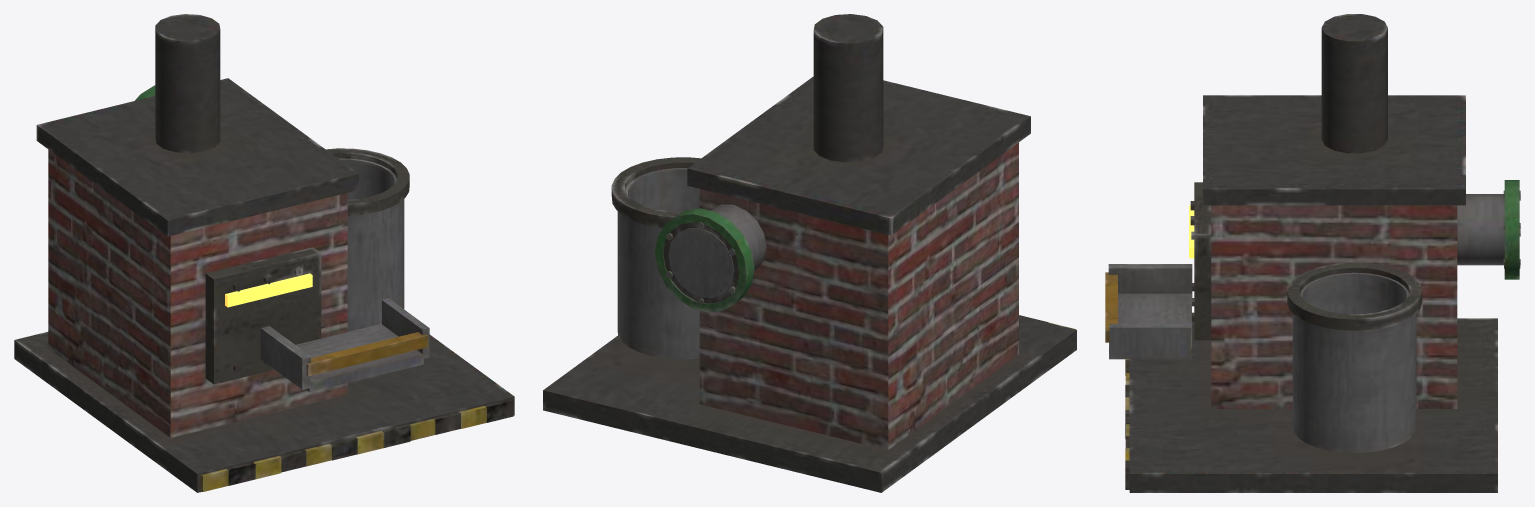
Rendered from feTemperFurnace.glb.
3 views of the same model, side by side, from view 1: azimuth 30°, elevation 25°; view 2: azimuth 150°, elevation 25°; view 3: azimuth 270°, elevation 25° (orthographic). The views are drawn at different scales.
Visible parts, largest first — view 1: feTemperFurnace_Base; view 2: feTemperFurnace_Base; view 3: feTemperFurnace_Base.
Part boxes in pixels (left/top/right/bottom): feTemperFurnace_Base: left=14, top=14, right=514, bottom=492; feTemperFurnace_Base: left=543, top=14, right=1076, bottom=492; feTemperFurnace_Base: left=1105, top=14, right=1520, bottom=492.
Bounding box in the file's own units: 0.9012 × 0.9718 × 1.02.
Materials: 3 (1 with a texture image).
